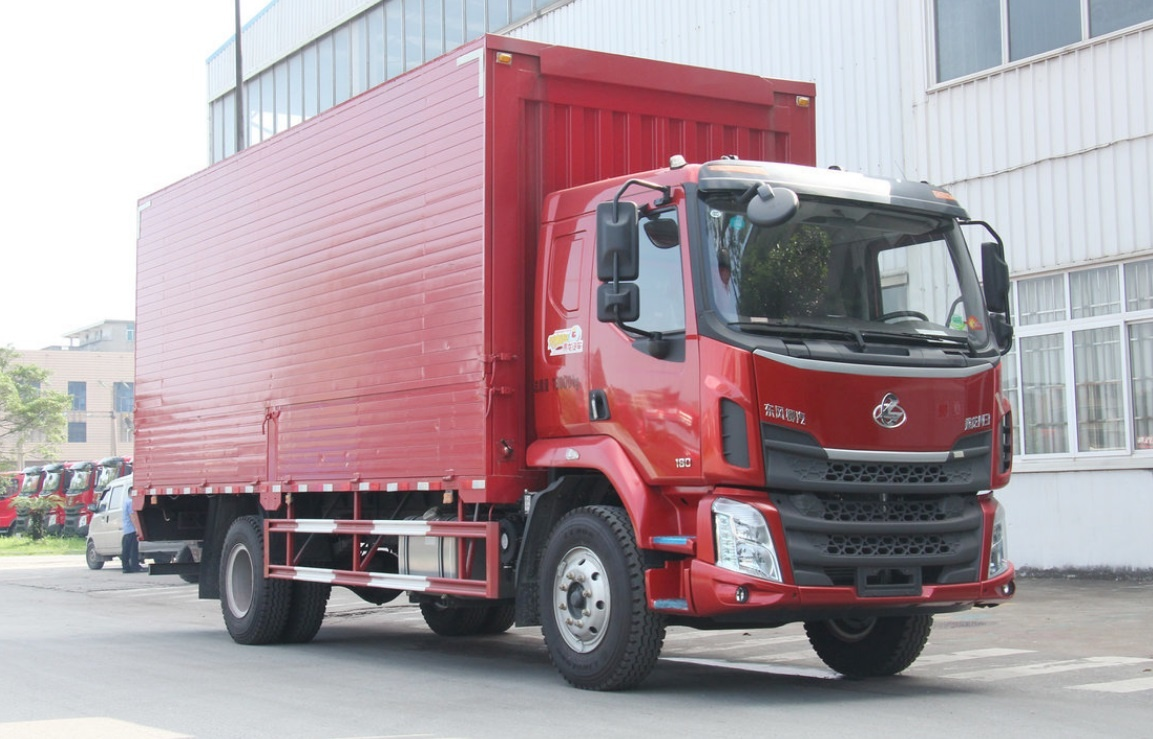heavy truck: (110, 52, 1028, 728)
